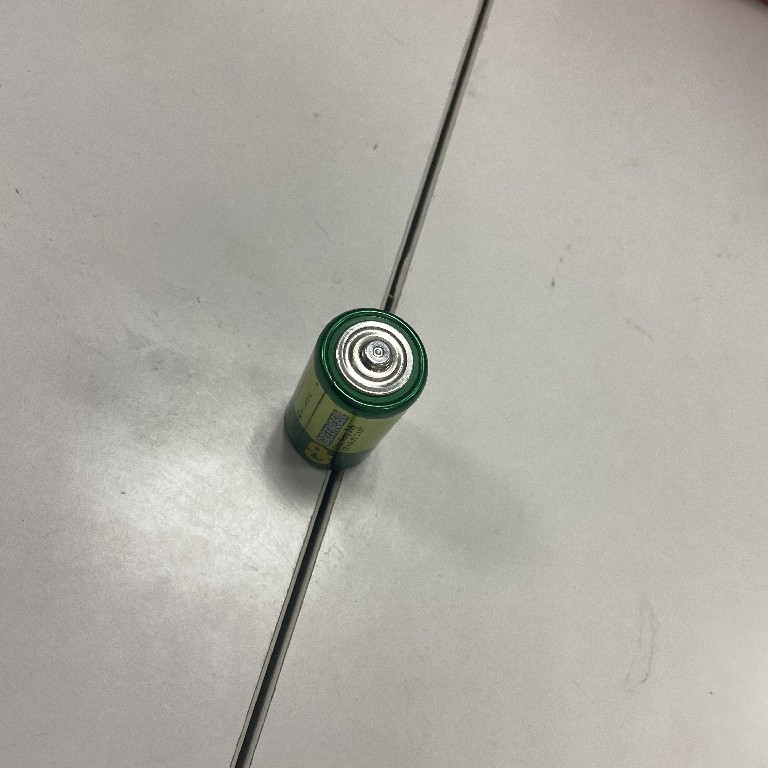charge: (280, 304, 432, 478)
